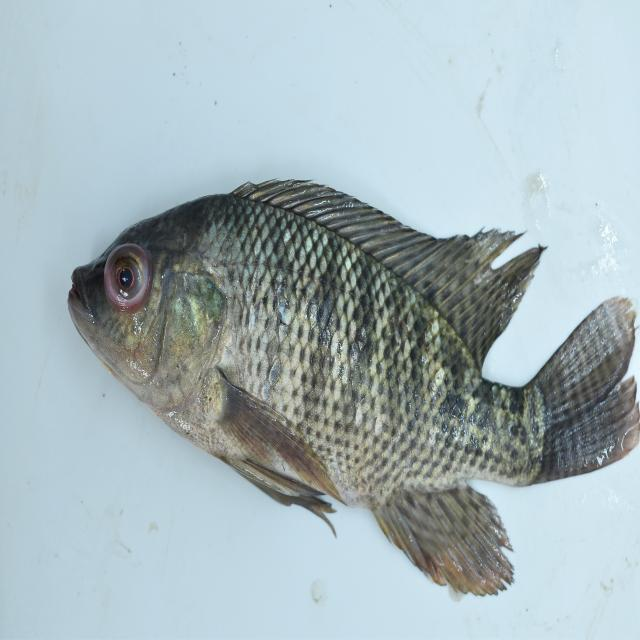Columnaris Disease: (22, 159, 635, 598)
